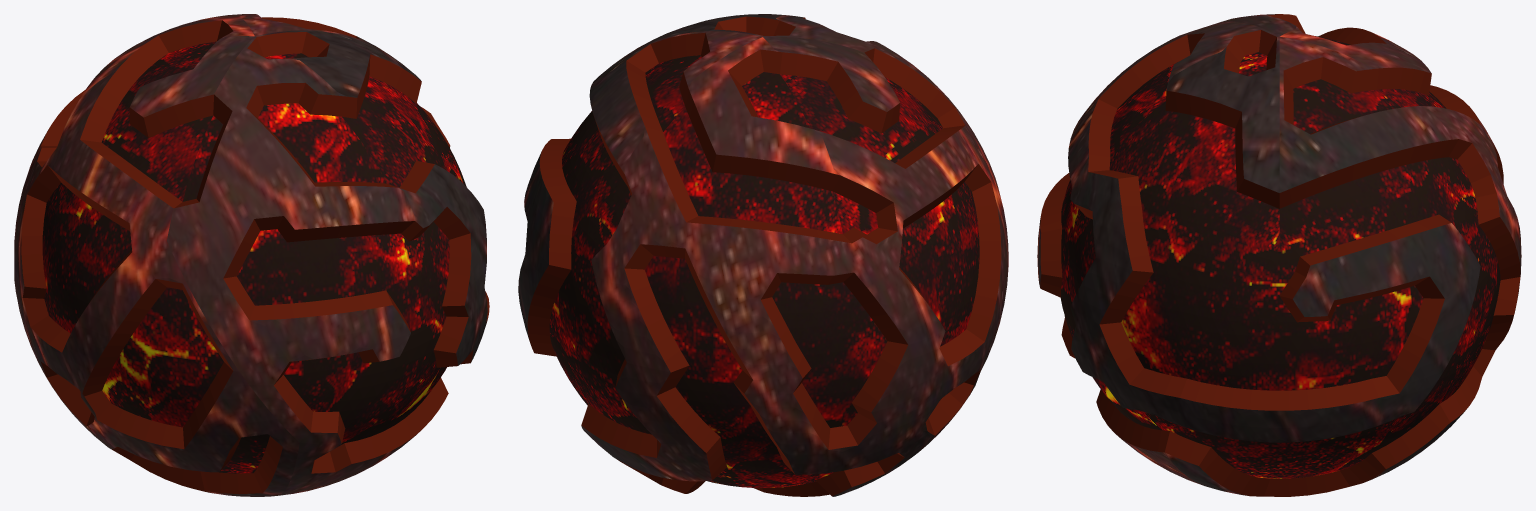
The model's file is lavaworld.fbx.
The picture shows the model from 3 angles, left to right: view 1: azimuth 30°, elevation 25°; view 2: azimuth 150°, elevation 25°; view 3: azimuth 270°, elevation 25°; orthographic projection. The views are drawn at different scales.
Visible parts, largest first — view 1: Icosphere; view 2: Icosphere; view 3: Icosphere.
Boxes of the visible parts, left/top/right/bottom form: Icosphere: left=14, top=14, right=489, bottom=496; Icosphere: left=518, top=14, right=1008, bottom=496; Icosphere: left=1037, top=14, right=1521, bottom=496.
Size of the model in its own units: 1065 by 1085 by 1085.
3 materials, 2 textured.
